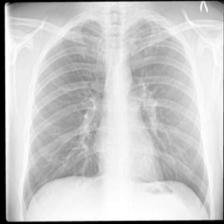tuberculosis: (14, 11, 216, 219)
